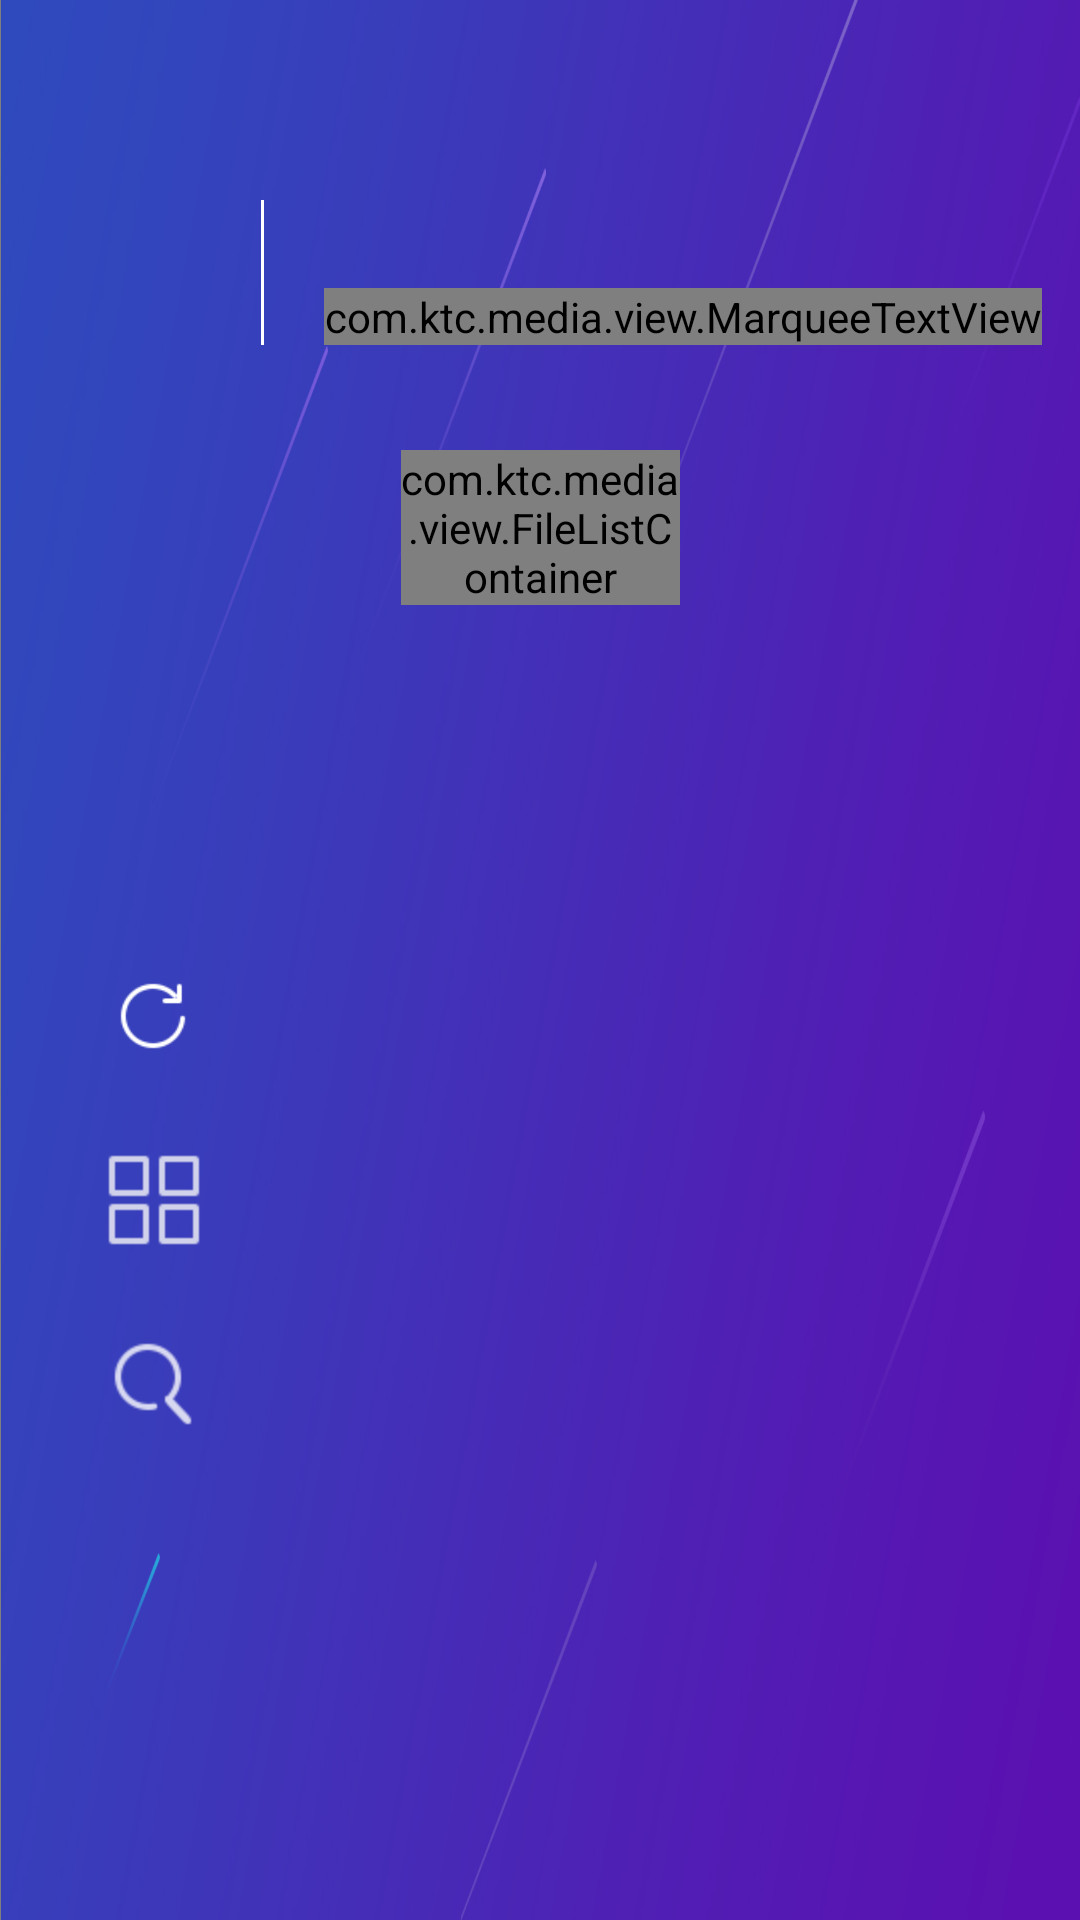

Screen size 1080 x 1920. Icon name, then its center in pixels as [x,y]:
refresh: [153,1016]
search: [153,1384]
switch grid: [154,1200]
